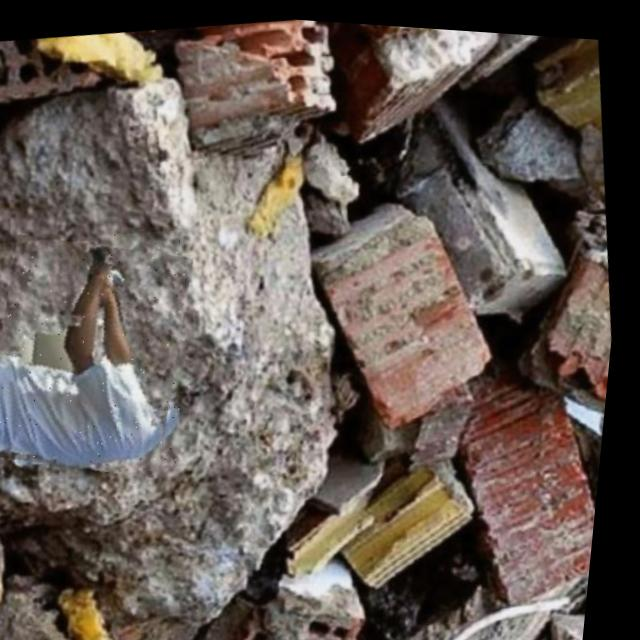Person in Rubble: (0, 217, 219, 492)
